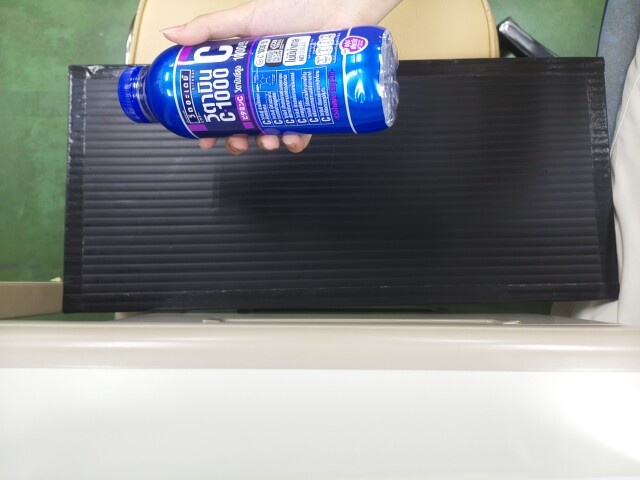plastic_bottle: (114, 38, 401, 135)
